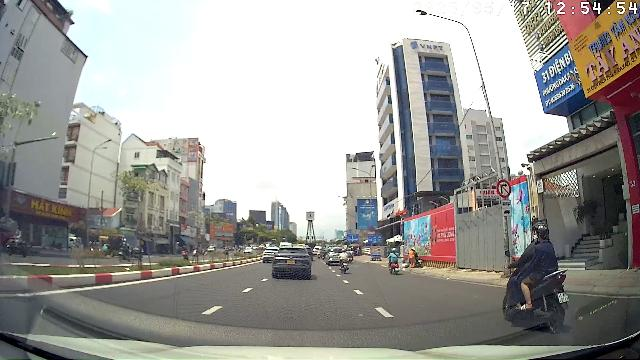123b-cam-re-phai: (496, 179, 512, 198)
